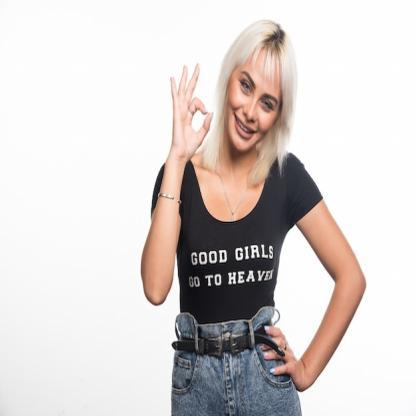ok: (166, 58, 216, 162)
